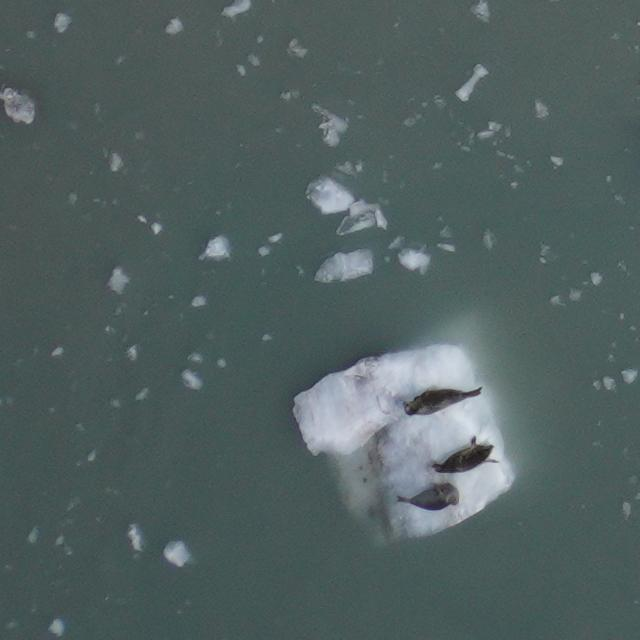seal: (399, 373, 483, 425), (430, 433, 502, 477), (393, 479, 463, 519)
